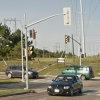Car: (44, 66, 86, 99)
